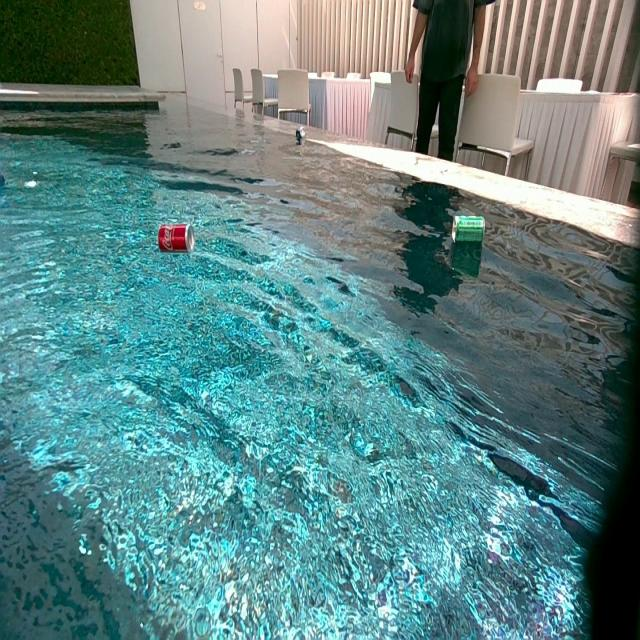Cans: (159, 223, 195, 255), (451, 215, 484, 249), (296, 125, 306, 142)
